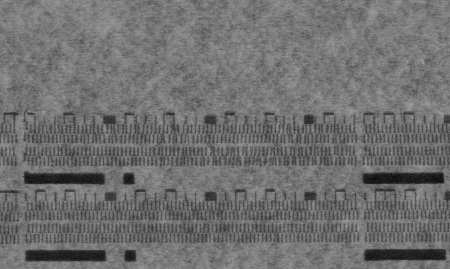Oblique printing: (22, 119, 359, 170)
